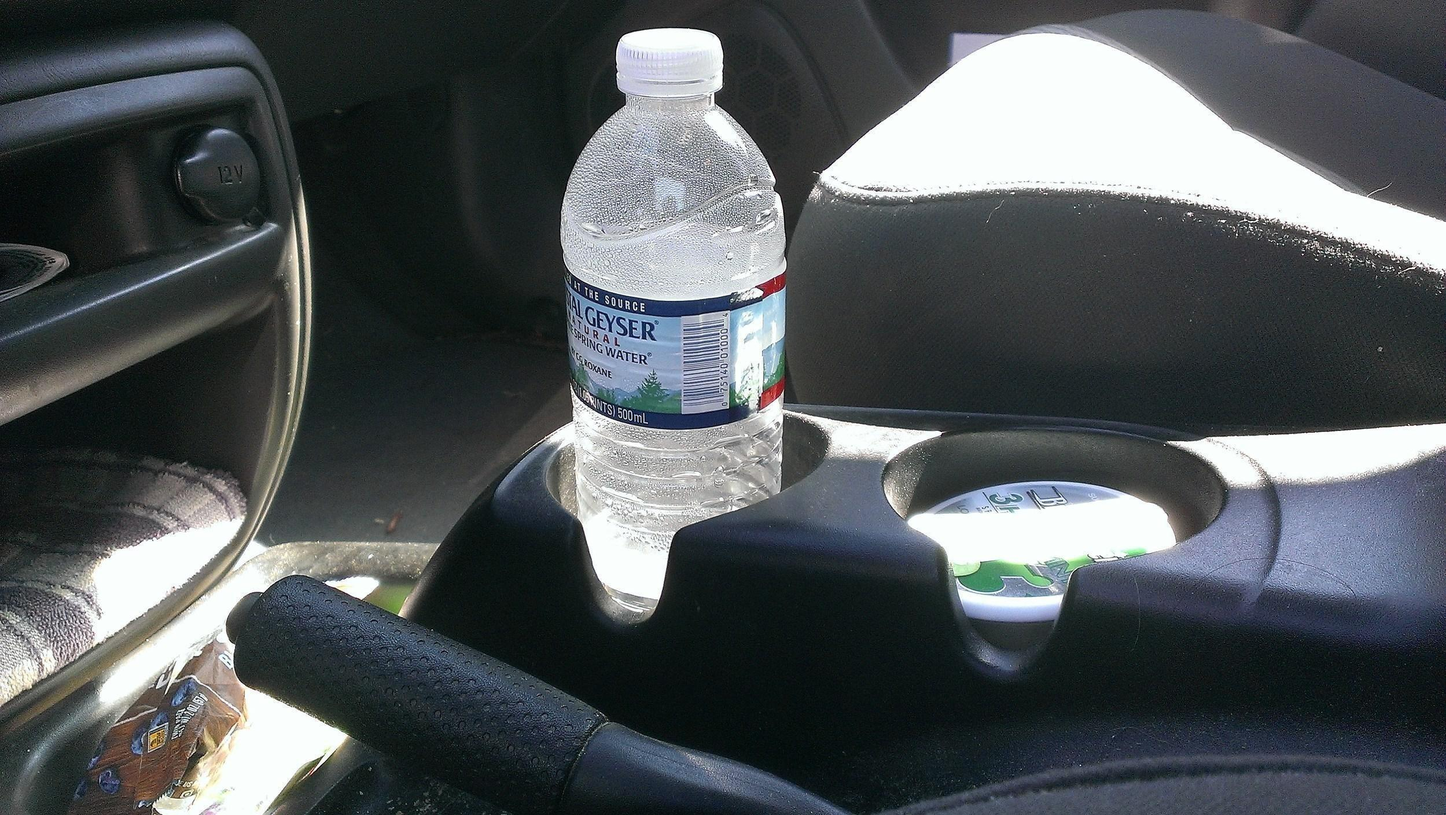bottle-plastic: (558, 21, 790, 623)
